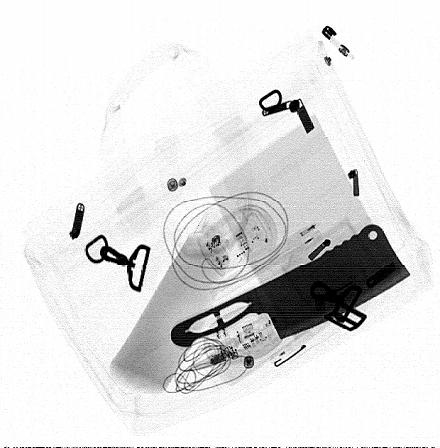Knife: (170, 223, 412, 349)
